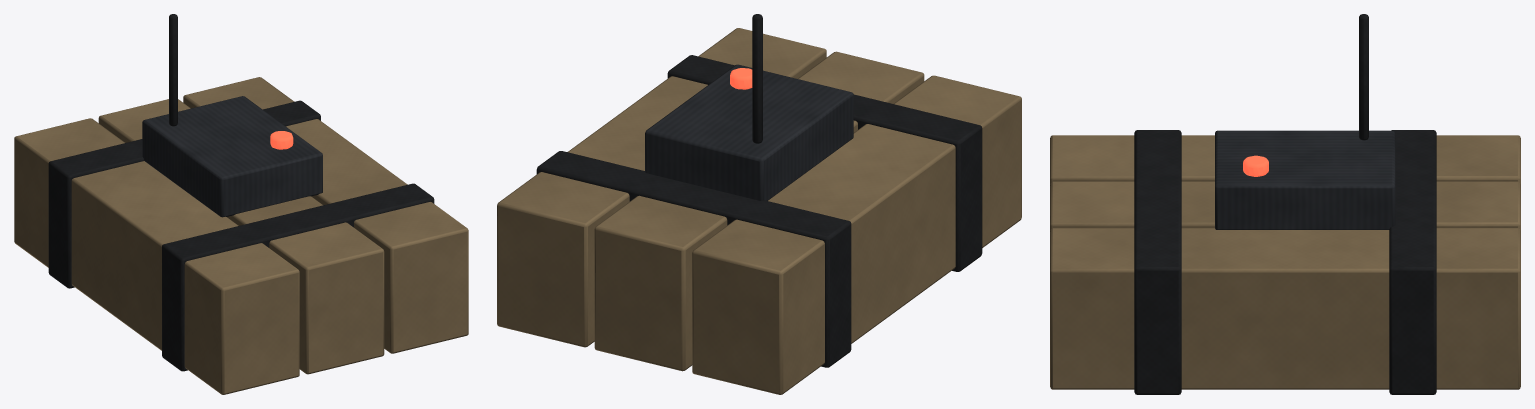
Rendered from GAD_C4_BreachPack.glb.
3 renders of one model, left to right at view 1: azimuth 30°, elevation 25°; view 2: azimuth 150°, elevation 25°; view 3: azimuth 270°, elevation 25°, orthographic. The views are drawn at different scales.
Parts seen in each view (by area): view 1: GAD_C4_BreachPack_Mesh; view 2: GAD_C4_BreachPack_Mesh; view 3: GAD_C4_BreachPack_Mesh.
Boxes of the visible parts, x1,y1,x2,y2 form: GAD_C4_BreachPack_Mesh: [14, 14, 468, 394]; GAD_C4_BreachPack_Mesh: [497, 14, 1021, 394]; GAD_C4_BreachPack_Mesh: [1050, 14, 1520, 394].
Bounding box in the file's own units: 0.168 × 0.165 × 0.24.
Materials: 4 (4 with a texture image).
